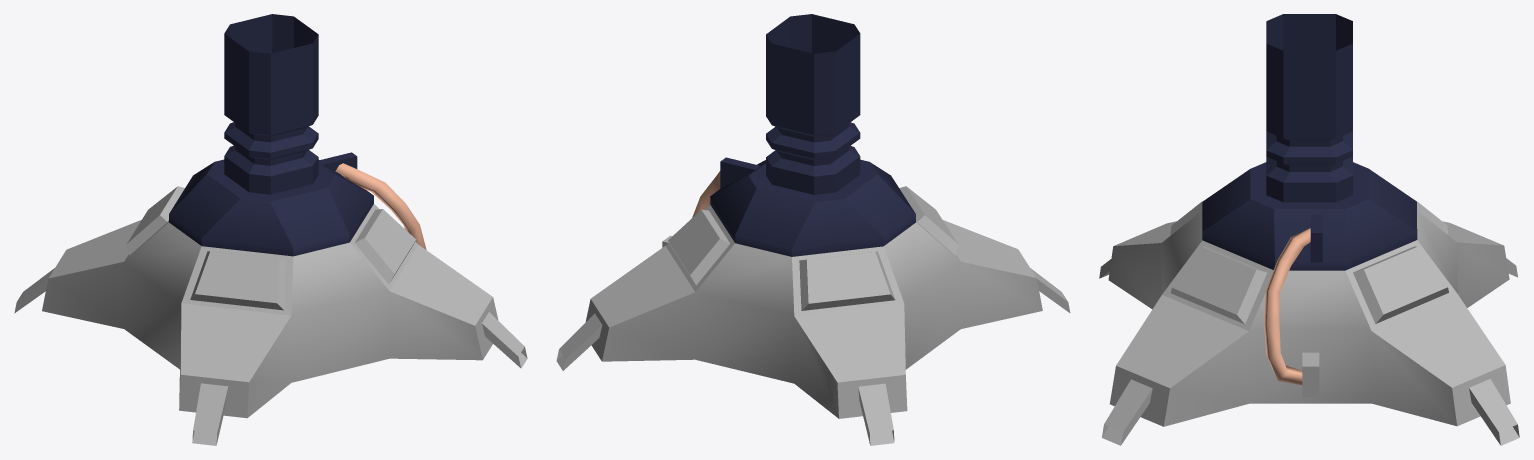
Rendered from Cannon Turret Bottom M1.FBX.
The picture shows the model from 3 angles, left to right: view 1: azimuth 30°, elevation 25°; view 2: azimuth 150°, elevation 25°; view 3: azimuth 270°, elevation 25°; orthographic projection. The views are drawn at different scales.
Visible parts, largest first — view 1: Cylinder012, Middle002, Line003; view 2: Cylinder012, Middle002, Box006; view 3: Cylinder012, Middle002, Line003, Box005, Box006.
Part boxes in pixels (x1,y1,x2,y2): Cylinder012: (14,186,527,445); Middle002: (169,14,373,256); Line003: (335,163,426,249); Cylinder012: (556,186,1070,445); Middle002: (710,14,915,256); Box006: (720,157,760,188); Cylinder012: (1099,201,1519,445); Middle002: (1202,14,1417,270); Line003: (1264,228,1310,384); Box005: (1302,352,1319,396); Box006: (1310,214,1322,262).
Bounding box in the file's own units: 52.45 × 45.02 × 52.53.
